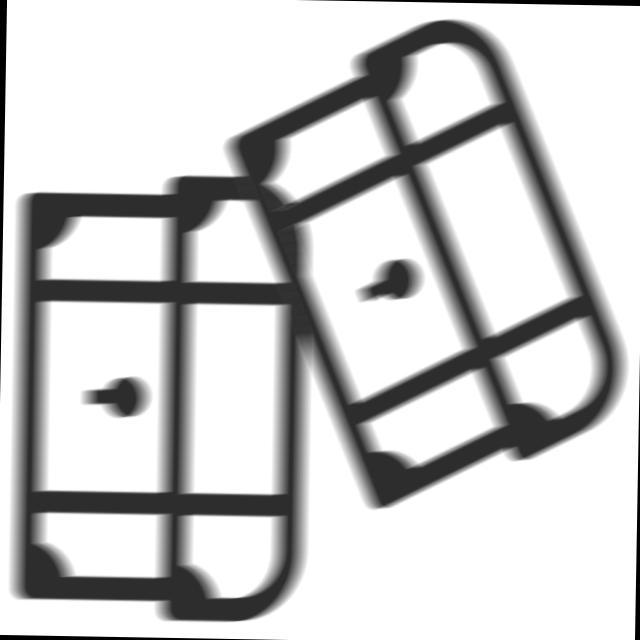treasure_box: (204, 4, 639, 524), (4, 164, 332, 630)
